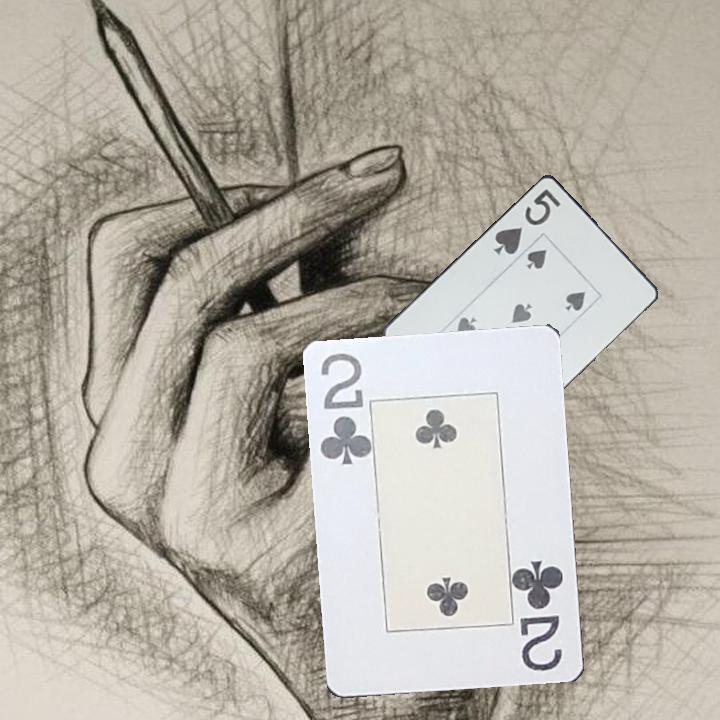2c: (316, 349, 371, 468), (513, 556, 566, 674)
5s: (490, 185, 564, 257)
